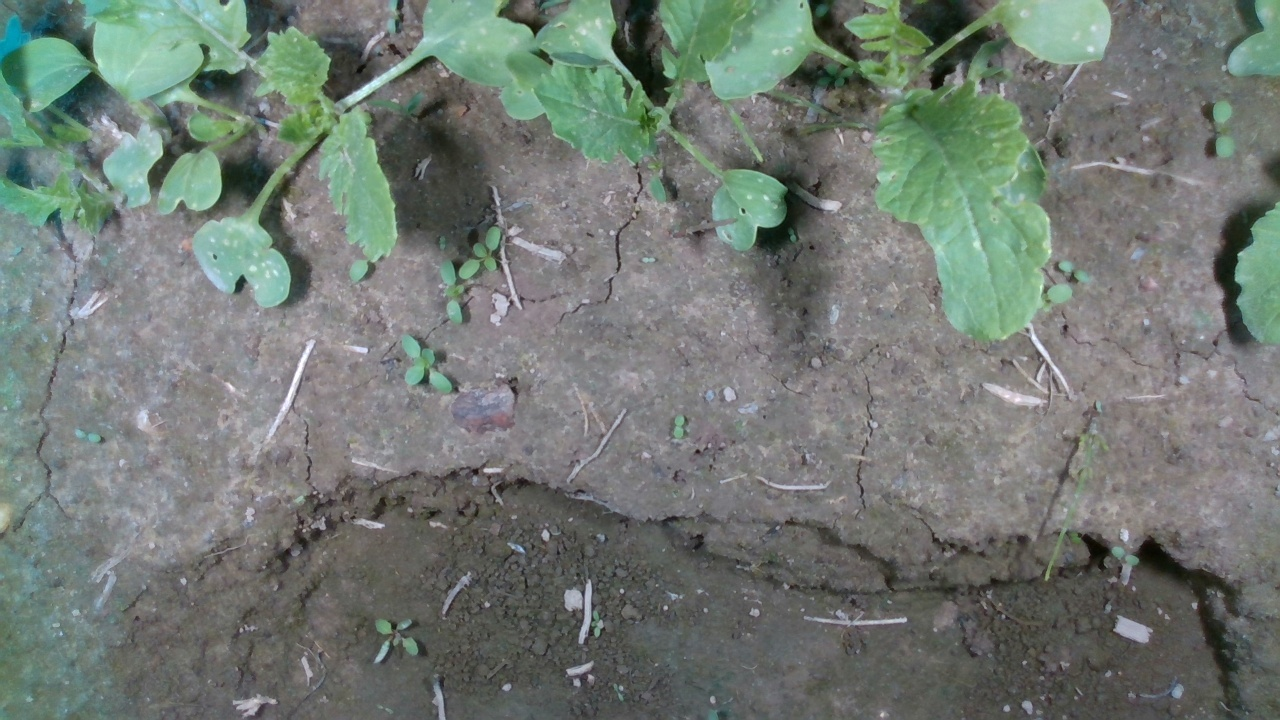weed: (399, 334, 454, 396), (72, 428, 103, 445), (673, 413, 685, 440)
